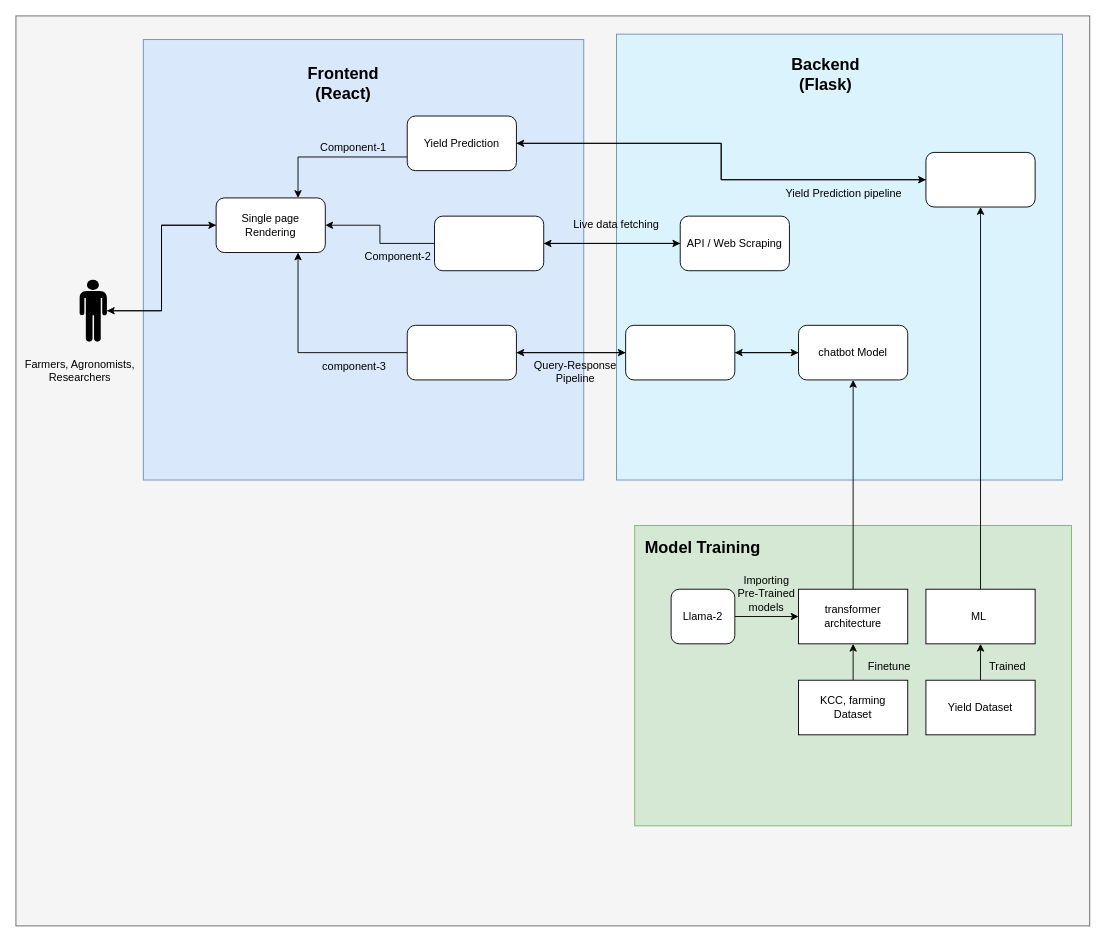
Some shapes in this 1106 by 942 pixel diagram are drawn without their labels. Here are the shapes that lost their labels. From the top down, the centre of each, then its label:
At point 980,179: "ML model".
At point 489,243: "Weather / gov schemes".
At point 461,352: "Chatbot Interface".
At point 680,352: "Preprocess Query Text".
